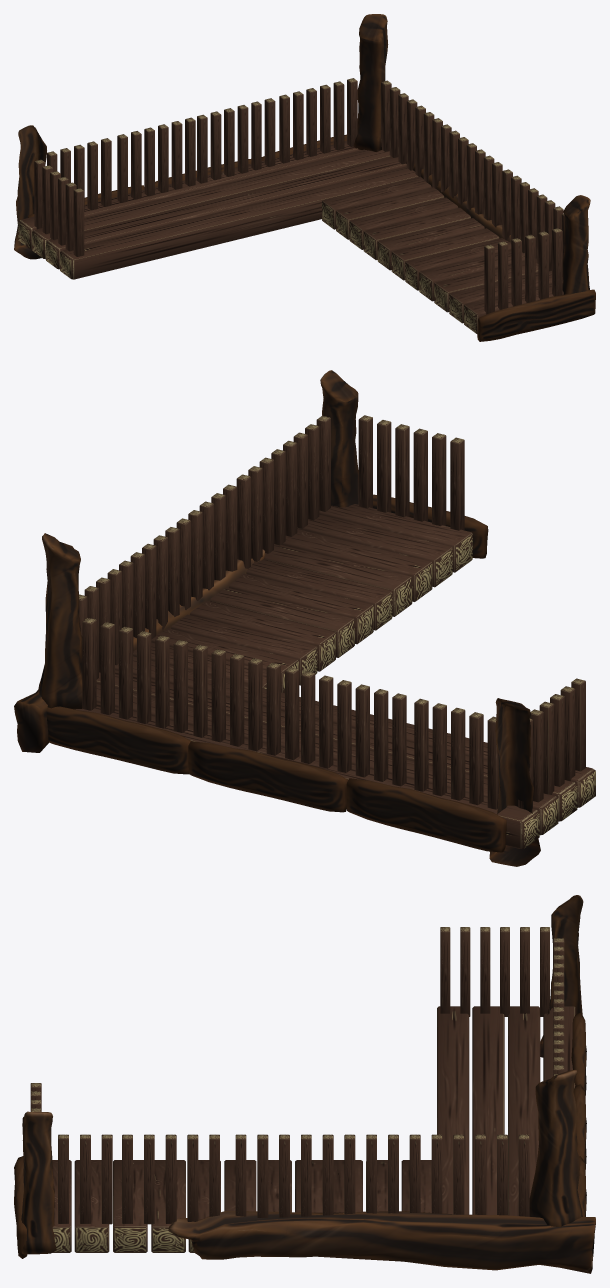
The model's file is Makchara_V1.fbx.
3 renders of one model, top to bottom at view 1: azimuth 30°, elevation 25°; view 2: azimuth 150°, elevation 25°; view 3: azimuth 270°, elevation 25°, orthographic. The views are drawn at different scales.
Parts seen in each view (by area): view 1: Balcon_V1; view 2: Balcon_V1; view 3: Balcon_V1.
Part boxes in pixels (x1,y1,x2,y2): Balcon_V1: (14,14,595,341); Balcon_V1: (14,370,595,866); Balcon_V1: (14,895,595,1273).
Size of what is drawn, in the model's own units: 533 by 209 by 560.
